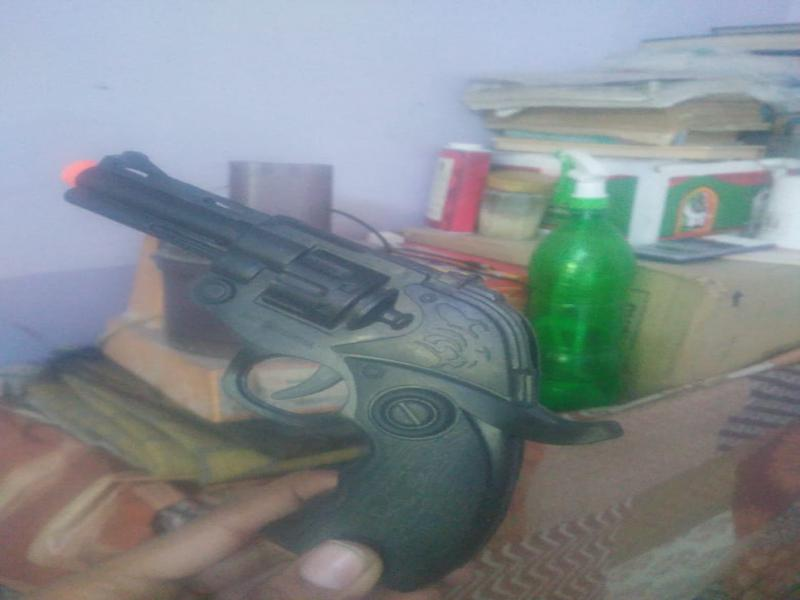gun: (56, 146, 643, 579)
